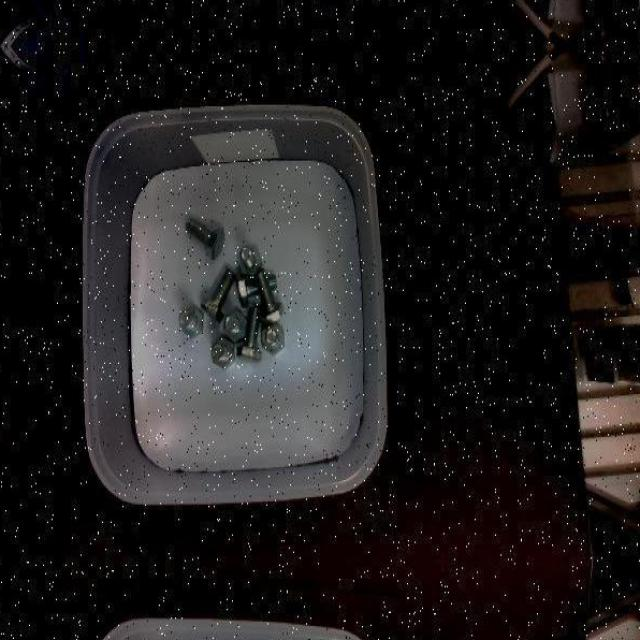screw: (202, 268, 235, 322), (185, 217, 224, 260), (256, 268, 286, 322), (237, 308, 263, 364), (179, 304, 203, 338), (262, 320, 286, 354), (213, 336, 236, 371), (236, 244, 261, 275), (224, 308, 247, 340)
